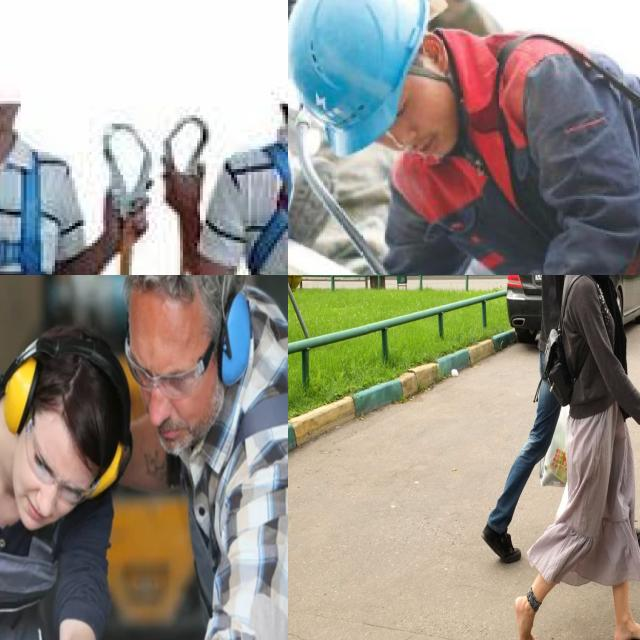Barefoots: (515, 596, 538, 640), (614, 620, 640, 640)
Ear-protection: (0, 319, 126, 552), (128, 275, 252, 459)
No_Ear-Protection: (419, 31, 452, 80)
face_nomask: (384, 101, 457, 161)
head_helmet: (288, 0, 428, 154)
